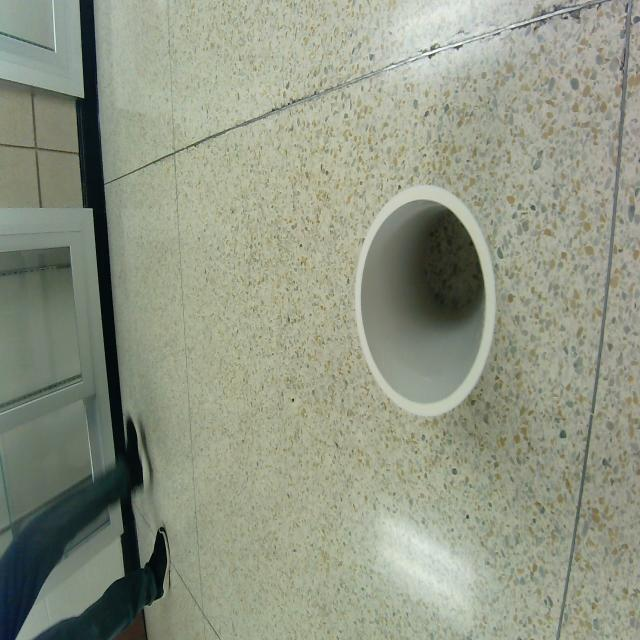coral: (355, 186, 496, 417)
